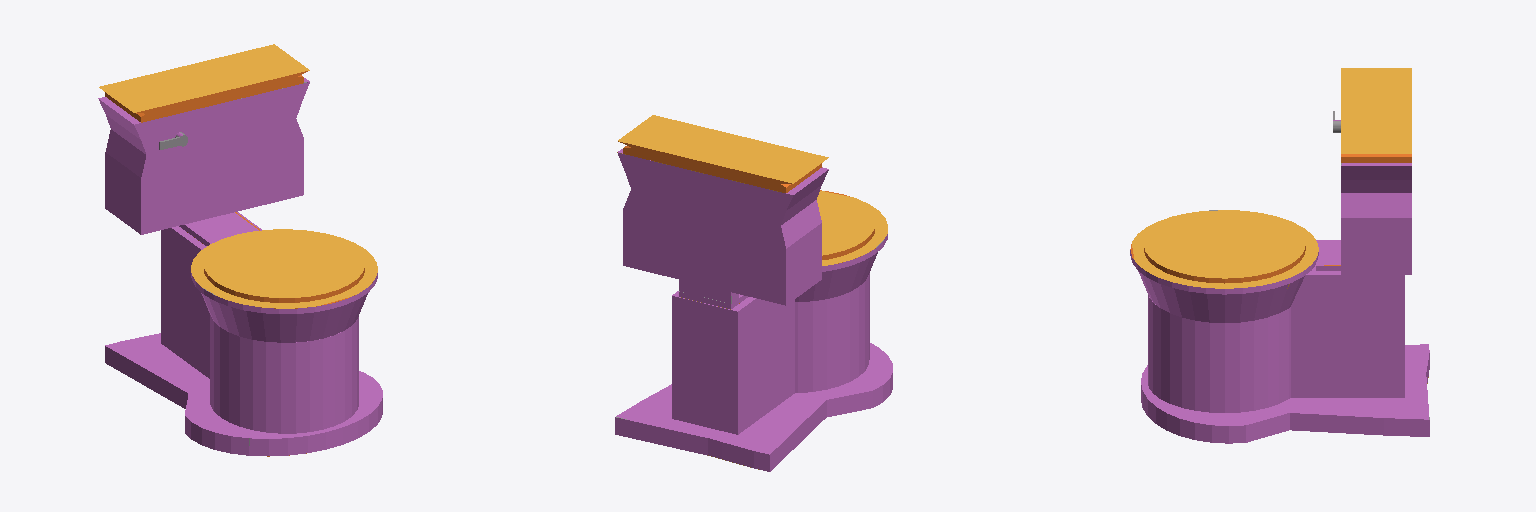
The picture shows the model from 3 angles: view 1: azimuth 30°, elevation 25°; view 2: azimuth 150°, elevation 25°; view 3: azimuth 270°, elevation 25°; orthographic projection.
Visible parts, largest first — view 1: Cilindro.011_Cilindro.002; view 2: Cilindro.011_Cilindro.002; view 3: Cilindro.011_Cilindro.002.
Boxes of the visible parts, x1=… form: Cilindro.011_Cilindro.002: x1=98, y1=44, x2=382, y2=456; Cilindro.011_Cilindro.002: x1=615, y1=115, x2=892, y2=471; Cilindro.011_Cilindro.002: x1=1130, y1=68, x2=1429, y2=443.
Bounding box in the file's own units: 7.94 × 11.83 × 11.23.
Materials: 1 (1 with a texture image).